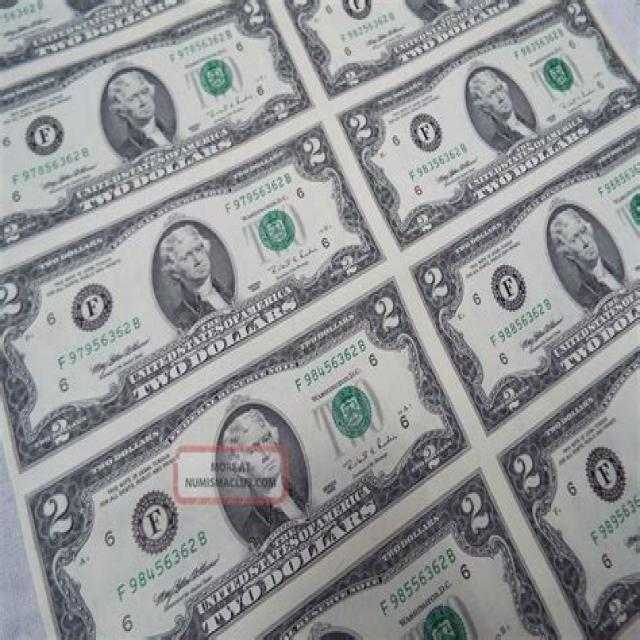Two: (22, 263, 482, 640), (0, 108, 400, 478), (329, 0, 640, 258), (404, 113, 640, 435)
